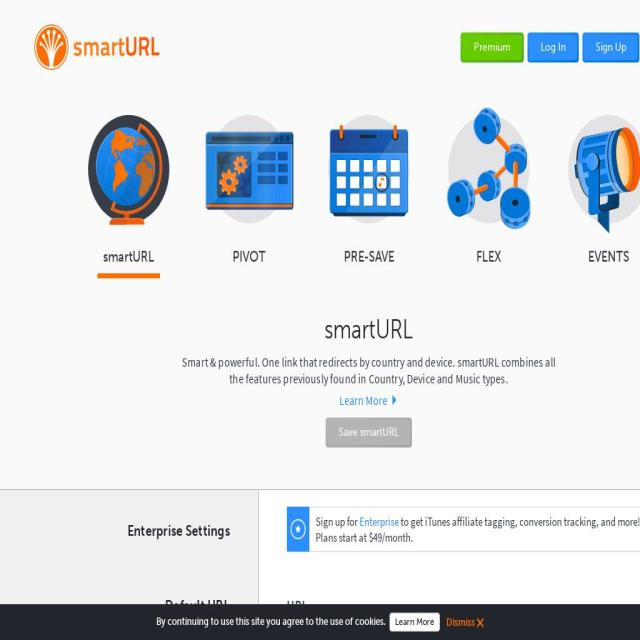button: (69, 101, 189, 256), (189, 101, 309, 256), (309, 101, 429, 256), (429, 101, 549, 256), (549, 101, 640, 256), (34, 24, 160, 70), (328, 420, 410, 445), (322, 392, 416, 409), (462, 34, 522, 60), (584, 34, 638, 60), (529, 34, 577, 60), (390, 612, 440, 632), (446, 616, 484, 628)
field: (287, 620, 640, 640)
heading: (34, 312, 640, 346), (42, 522, 230, 540), (42, 597, 230, 615)
image: (208, 115, 290, 223), (448, 115, 530, 223), (89, 115, 170, 223), (328, 115, 409, 223), (568, 115, 640, 223), (34, 24, 160, 70), (391, 395, 398, 405), (477, 618, 484, 628)
label: (287, 598, 640, 614)
link: (359, 513, 399, 530)
text: (175, 354, 563, 388), (315, 513, 640, 545), (156, 614, 390, 628), (42, 623, 230, 640), (104, 247, 154, 266), (344, 247, 394, 266), (340, 392, 388, 409), (588, 247, 630, 266), (316, 513, 360, 530), (232, 247, 266, 266), (476, 247, 502, 266), (447, 616, 478, 628)
